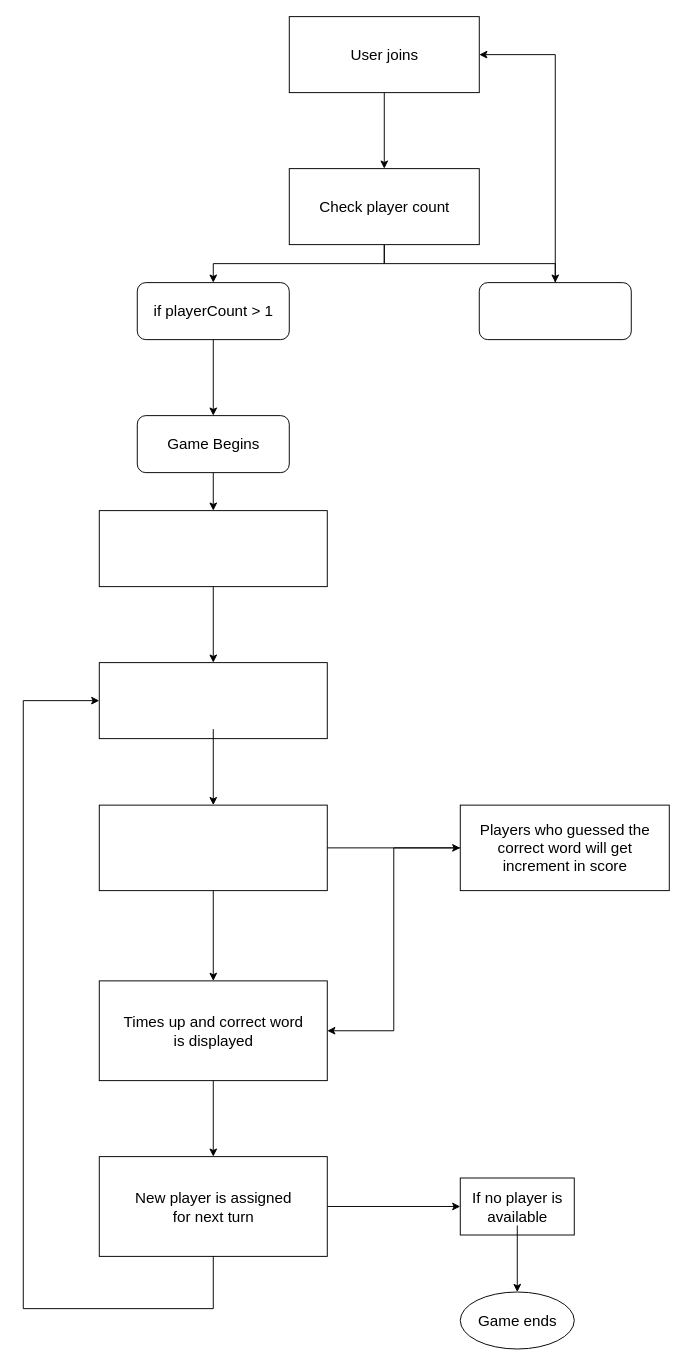
This 686x1366 diagram has some shape labels left out. The box of each missing label's shape, as (x1, y1, x2, y2) in pixels:
Assign the player turn: (98, 510, 327, 587)
Call the random word API and set the variables to that word: (98, 662, 327, 739)
if playerCount = 1: (478, 282, 631, 340)
The turn player could draw now and keep checking the guess word of other players: (98, 804, 327, 891)
